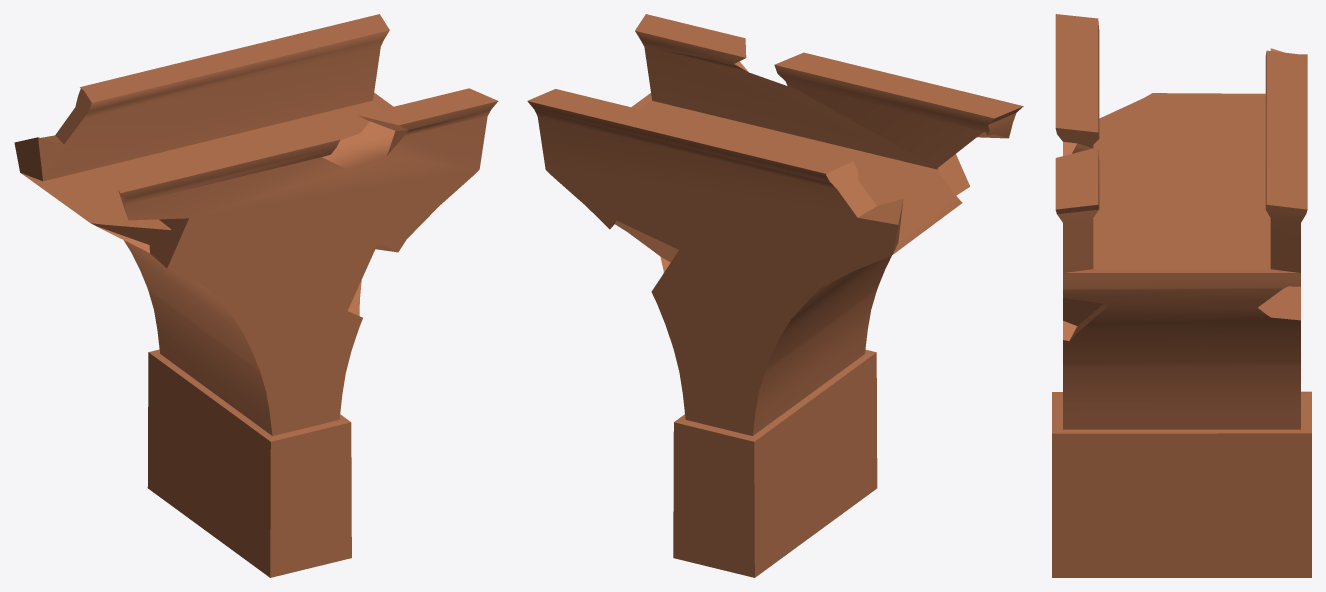
File: old_bridge02.fbx
The picture shows the model from 3 angles, left to right: view 1: azimuth 30°, elevation 25°; view 2: azimuth 150°, elevation 25°; view 3: azimuth 270°, elevation 25°; orthographic projection. The views are drawn at different scales.
Visible parts, largest first — view 1: old_bridge02; view 2: old_bridge02; view 3: old_bridge02.
Part boxes in pixels (left/top/right/bottom): old_bridge02: left=14, top=14, right=498, bottom=577; old_bridge02: left=527, top=14, right=1023, bottom=577; old_bridge02: left=1052, top=14, right=1311, bottom=577.
Size of the model in its own units: 9.27 by 9.83 by 5.2.
